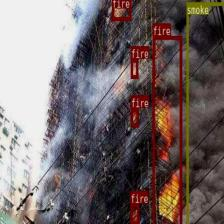fire: (152, 35, 181, 224), (111, 0, 131, 20), (130, 203, 139, 224), (130, 58, 138, 78), (131, 108, 138, 126)
smoke: (186, 1, 224, 224)
